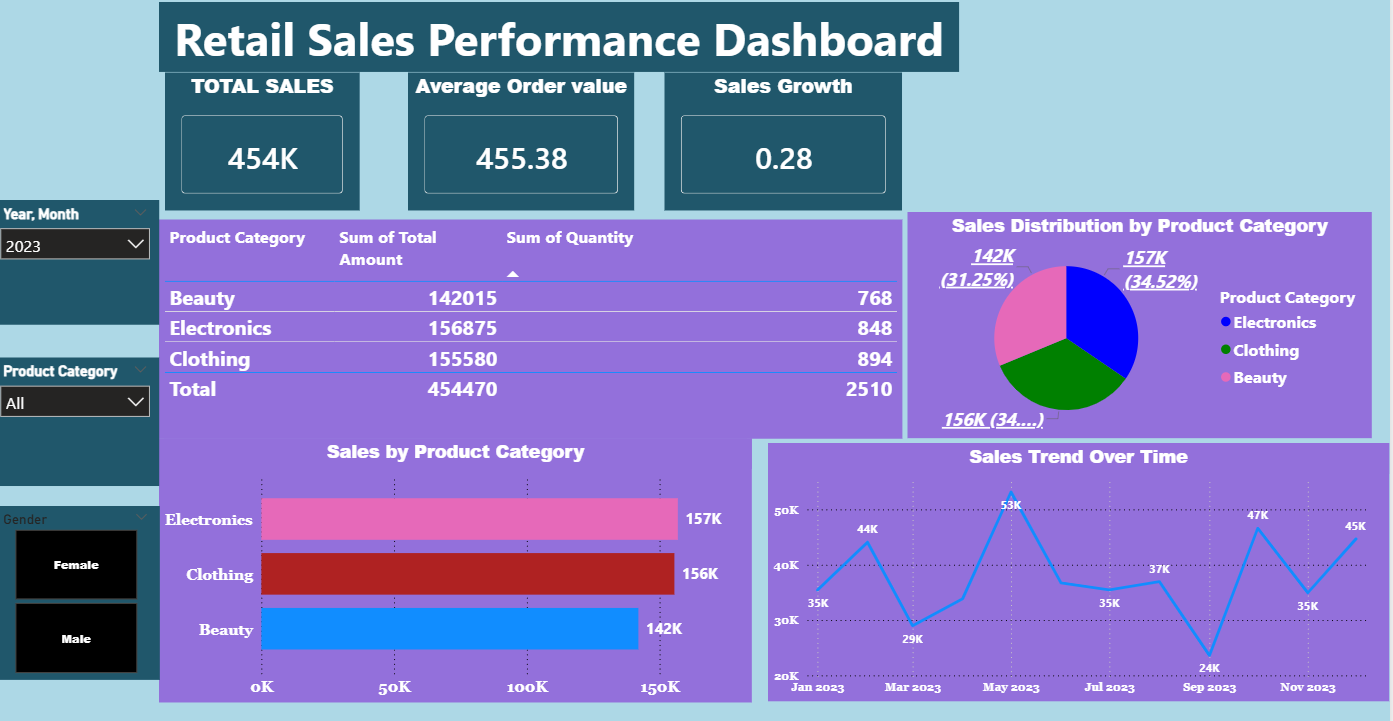

What the dashboard file says about the page in this screenshot:
{"tool":"powerbi","page":{"name":"Page 1","canvas":[1480,920],"ordinal":0},"visuals":[{"type":"cardVisual","title":"TOTAL SALES","fields":{"Data":["retail_sales_dataset.Total Sales"]},"box":[183.7,89.9,205.7,145.8],"z":0},{"type":"cardVisual","title":"Sales Growth","fields":{"Data":["retail_sales_dataset.Sales Growth"]},"box":[713,89.9,251.6,145.8],"z":1000},{"type":"cardVisual","title":"Average Order value","fields":{"Data":["retail_sales_dataset.Average Order Value"]},"box":[441.4,89.9,239.7,145.8],"z":2000},{"type":"clusteredBarChart","title":"Sales by Product Category","fields":{"Y":["Sum(retail_sales_dataset.Total Amount)"],"Category":["retail_sales_dataset.Product Category"]},"box":[177.7,477.3,627.1,279.6],"z":3000},{"type":"lineChart","title":"Sales Trend Over Time","fields":{"Y":["Sum(retail_sales_dataset.Total Amount)"],"Category":["retail_sales_dataset.Date.Variation.Date Hierarchy.Year","retail_sales_dataset.Date.Variation.Date Hierarchy.Month"]},"box":[822.8,483.3,657.1,273.6],"z":4000},{"type":"pieChart","title":"Sales Distribution by Product Category","fields":{"Category":["retail_sales_dataset.Product Category"],"Y":["Sum(retail_sales_dataset.Total Amount)"]},"box":[970.6,237.7,491.3,239.7],"z":5000},{"type":"tableEx","fields":{"Values":["retail_sales_dataset.Product Category","Sum(retail_sales_dataset.Total Amount)","Sum(retail_sales_dataset.Quantity)"]},"box":[177.7,245.6,786.9,231.7],"z":6000},{"type":"slicer","fields":{"Values":["retail_sales_dataset.Date.Variation.Date Hierarchy.Year","retail_sales_dataset.Date.Variation.Date Hierarchy.Month"]},"box":[0,225.7,177.7,131.8],"z":7000},{"type":"slicer","fields":{"Values":["retail_sales_dataset.Product Category"]},"box":[0,391.4,177.7,135.8],"z":8000},{"type":"textbox","box":[177.7,16,846.8,73.9],"z":9000},{"type":"slicer","fields":{"Values":["retail_sales_dataset.Gender"]},"box":[0,549.5,178.4,183.8],"z":9001}]}

Visuals, with their boxes on the page's 1480x920 design canvas (x1, y1, x2, y2). These are canvas units, not pixel positions in the 1393x721 screenshot, which may show the page scaled, cropped or inside an application window:
"TOTAL SALES" cardVisual: [left=184, top=90, right=389, bottom=236]
"Sales Growth" cardVisual: [left=713, top=90, right=965, bottom=236]
"Average Order value" cardVisual: [left=441, top=90, right=681, bottom=236]
"Sales by Product Category" clusteredBarChart: [left=178, top=477, right=805, bottom=757]
"Sales Trend Over Time" lineChart: [left=823, top=483, right=1480, bottom=757]
"Sales Distribution by Product Category" pieChart: [left=971, top=238, right=1462, bottom=477]
tableEx - retail_sales_dataset.Product Category x Sum(retail_sales_dataset.Total Amount): [left=178, top=246, right=965, bottom=477]
slicer - retail_sales_dataset.Date.Variation.Date Hierarchy.Year x retail_sales_dataset.Date.Variation.Date Hierarchy.Month: [left=0, top=226, right=178, bottom=358]
slicer - retail_sales_dataset.Product Category: [left=0, top=391, right=178, bottom=527]
textbox: [left=178, top=16, right=1024, bottom=90]
slicer - retail_sales_dataset.Gender: [left=0, top=550, right=178, bottom=733]
